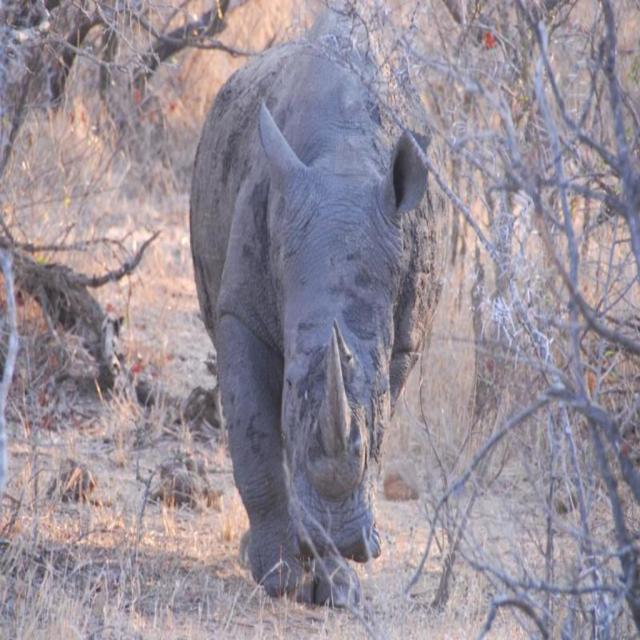rhino: (94, 31, 538, 562)
